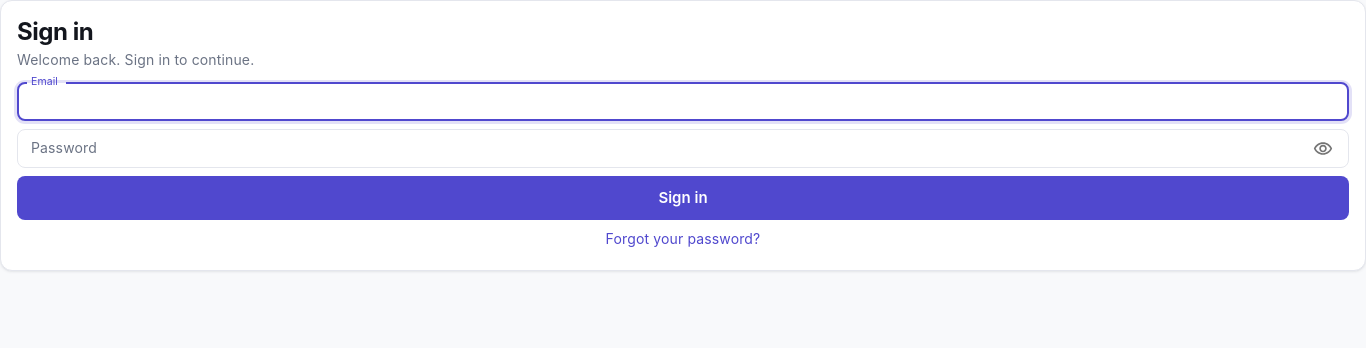
it: LoginForm › explains a disabled account instead of blaming the password
Type "archived@gym.local" into the field labelled "Email". click: (683, 102)
box: x1=17 y1=83 x2=1349 y2=121
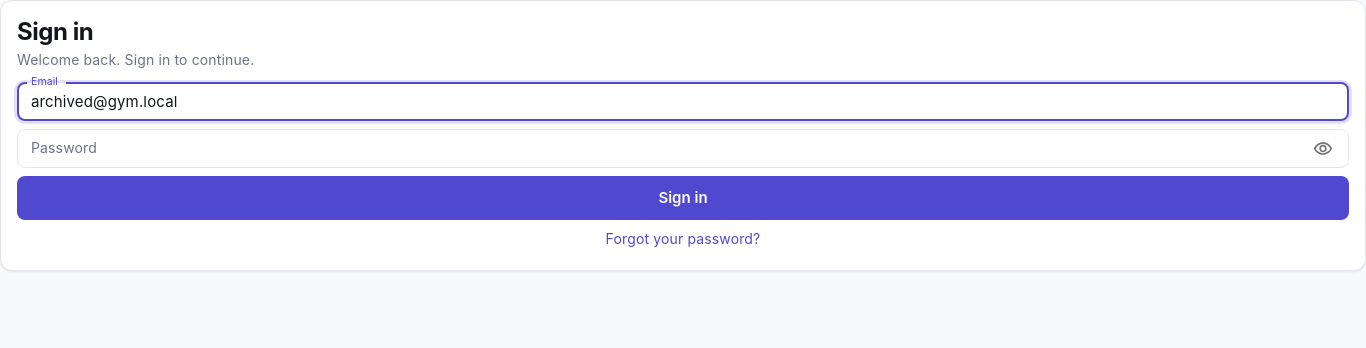
Type "CorrectHorse1" into the password field labelled "Password". click: (658, 149)
box: x1=17 y1=129 x2=1300 y2=168
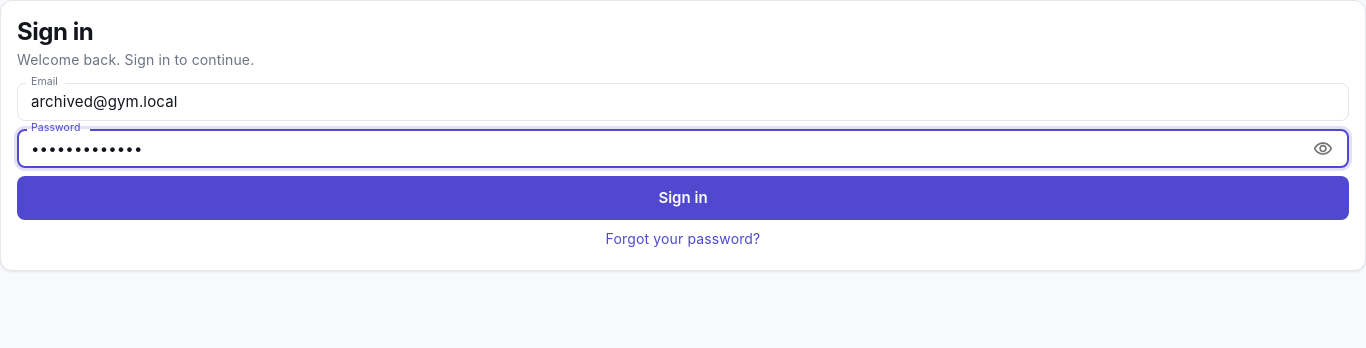
Click the button "Sign in". click: (683, 198)
box: x1=17 y1=176 x2=1349 y2=220
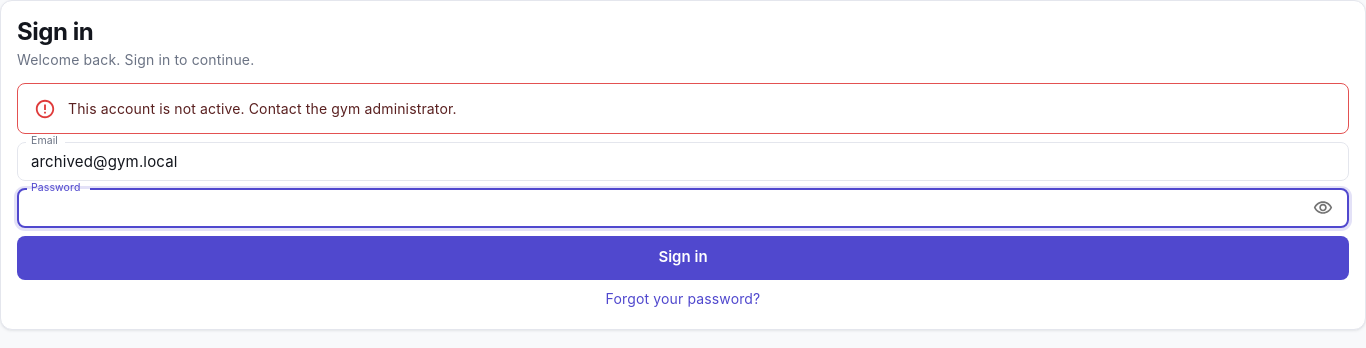
Expected: the message shows "not active", x1=68 y1=100 x2=457 y2=117
